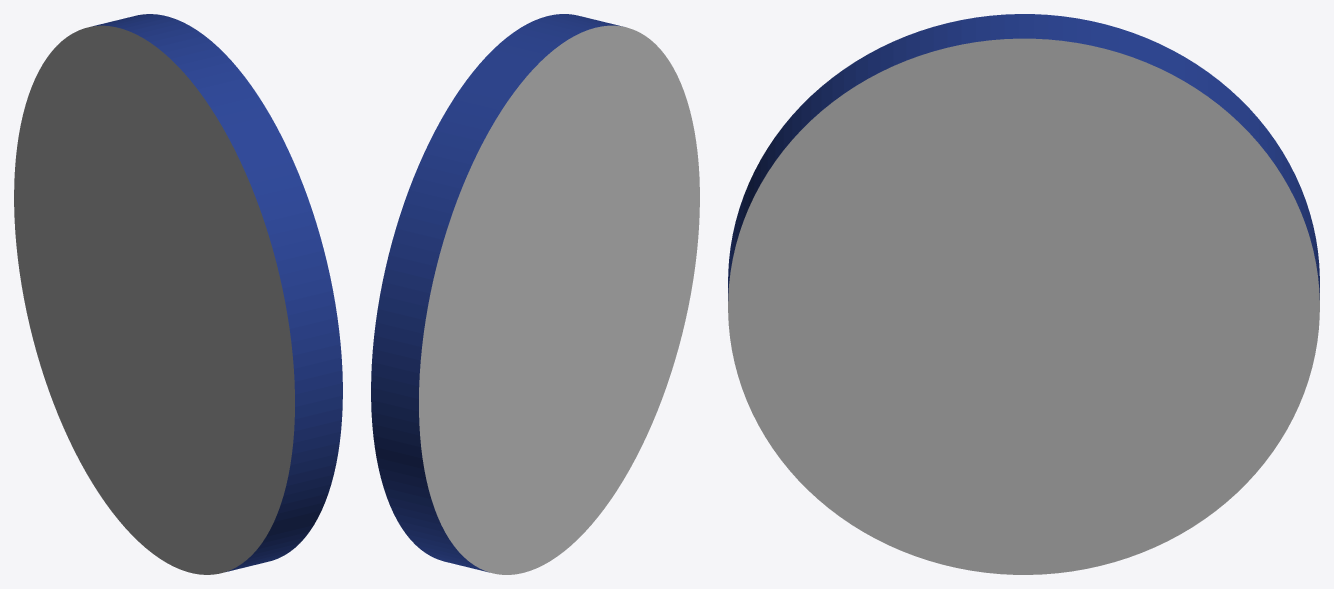
File: washroom.gltf
The picture shows the model from 3 angles, left to right: view 1: azimuth 30°, elevation 25°; view 2: azimuth 150°, elevation 25°; view 3: azimuth 270°, elevation 25°; orthographic projection. The views are drawn at different scales.
Visible parts, largest first — view 1: Cylinder; view 2: Cylinder; view 3: Cylinder.
Boxes of the visible parts, x1=… form: Cylinder: x1=14, y1=14, x2=342, y2=574; Cylinder: x1=371, y1=14, x2=699, y2=574; Cylinder: x1=728, y1=14, x2=1319, y2=574.
Size of the model in its own units: 0.1967 by 2 by 2.
